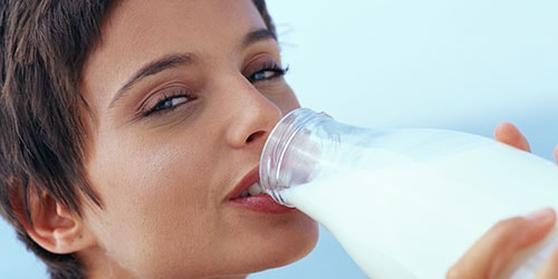milk: (281, 103, 557, 279)
